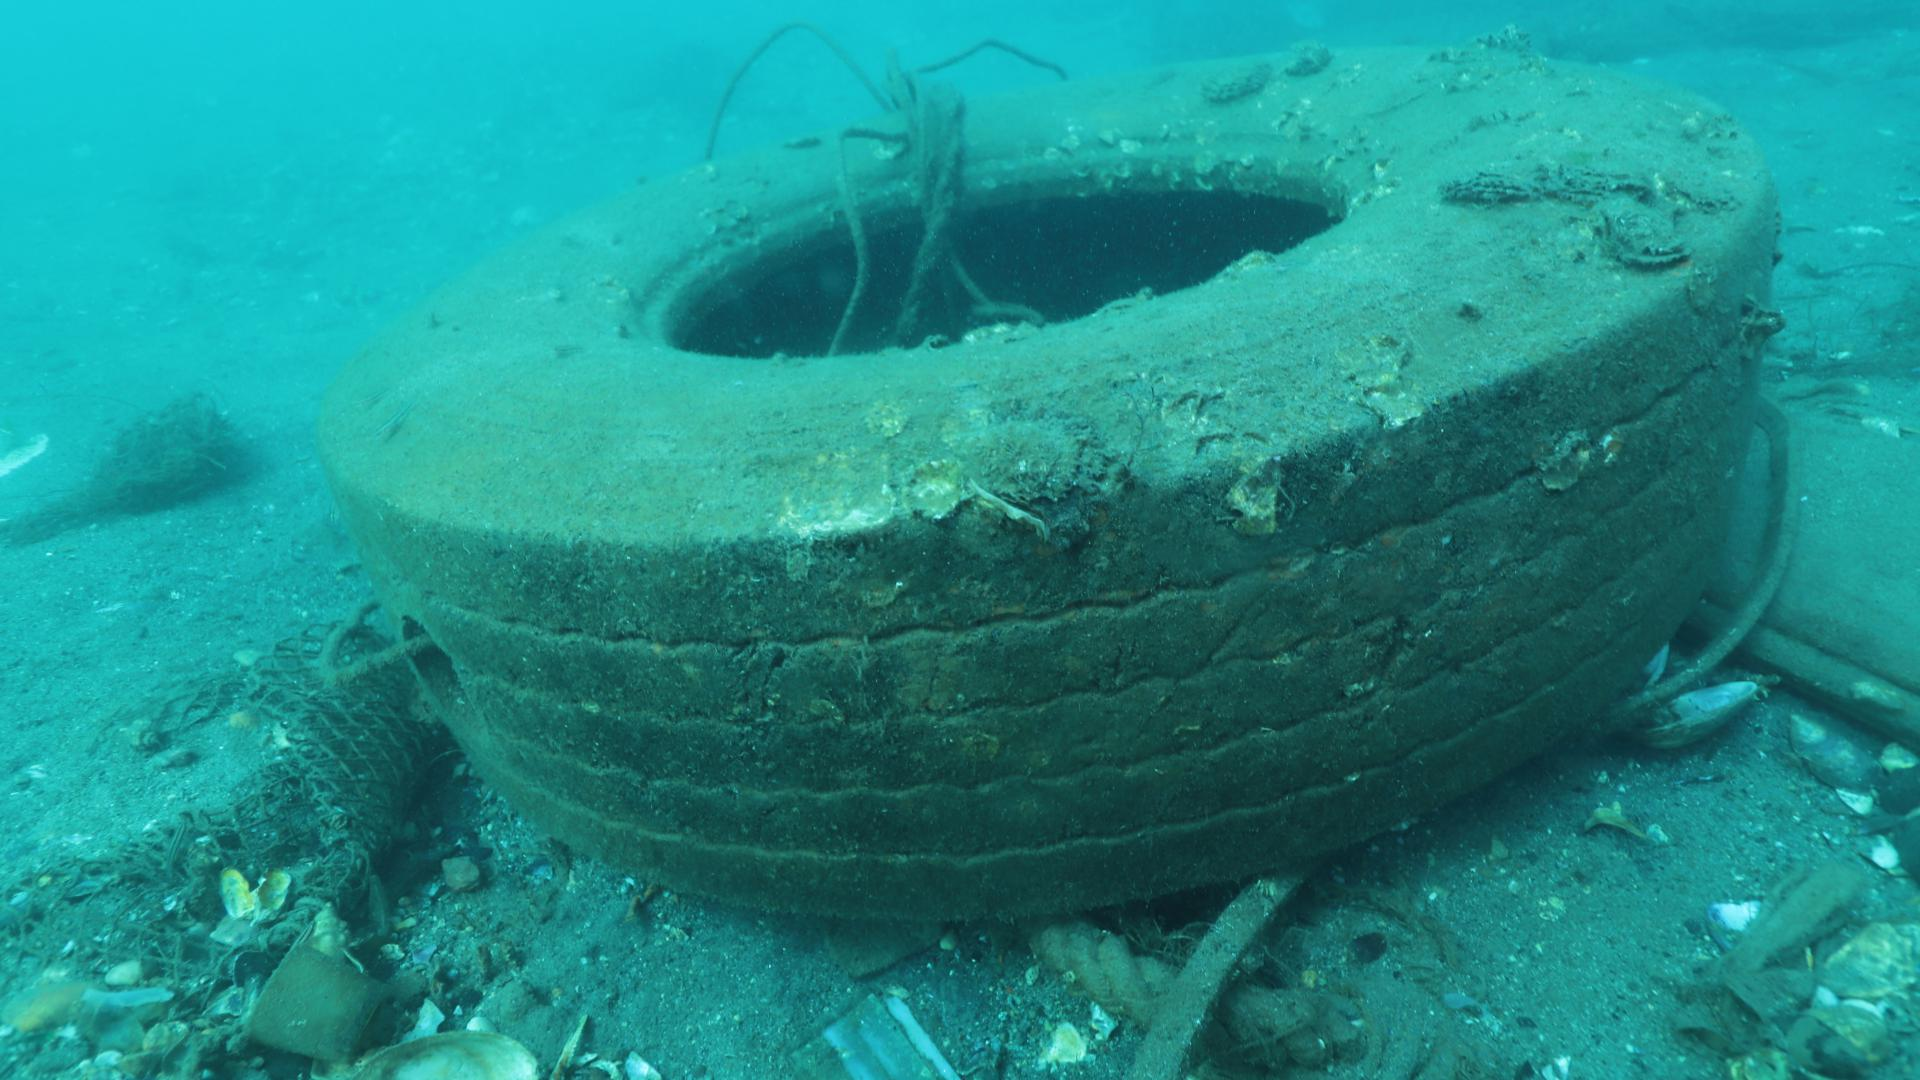bundle of ropes: (707, 18, 1073, 365)
fish net: (193, 628, 417, 914)
rope: (1025, 920, 1179, 1025)
tire: (297, 46, 1778, 918)
